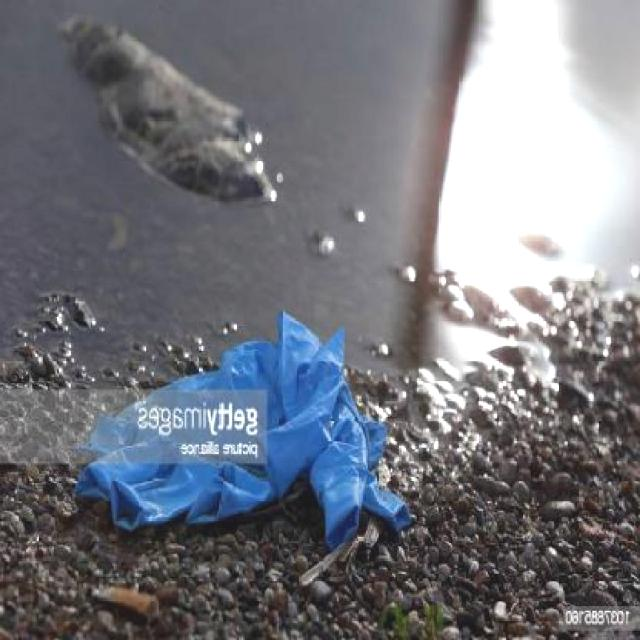glove: (61, 308, 413, 566)
